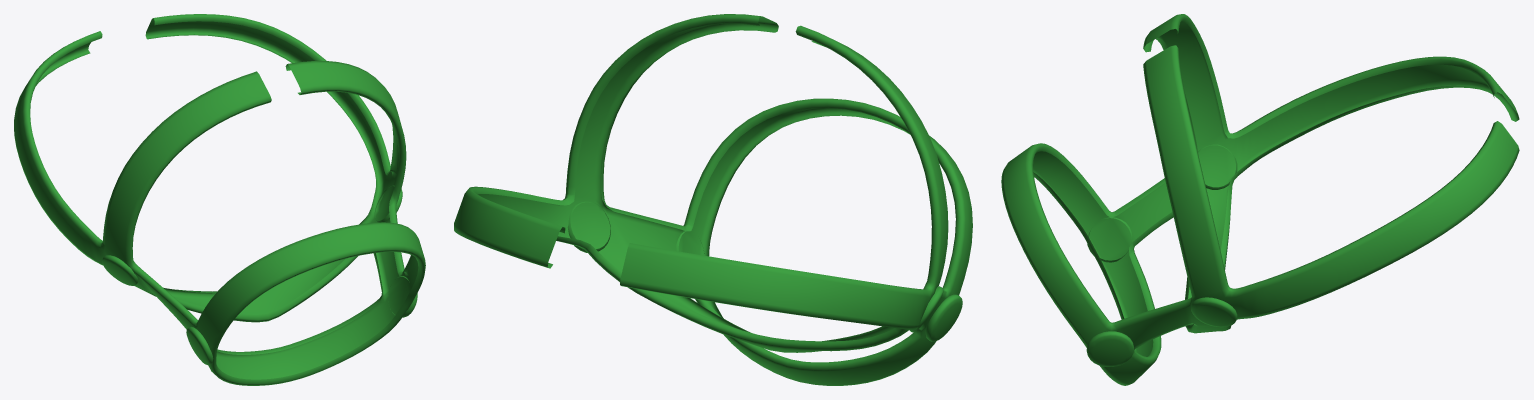
File: SM_horse_sbruya.fbx
3 renders of one model, left to right at view 1: azimuth 30°, elevation 25°; view 2: azimuth 150°, elevation 25°; view 3: azimuth 270°, elevation 25°, orthographic. The views are drawn at different scales.
Parts seen in each view (by area): view 1: SM_horse_sbruya; view 2: SM_horse_sbruya; view 3: SM_horse_sbruya.
Part boxes in pixels (box(x1,y1,x2,y2)): SM_horse_sbruya: box(14, 14, 425, 385); SM_horse_sbruya: box(454, 14, 972, 385); SM_horse_sbruya: box(1001, 14, 1519, 385).
Size of the model in its own units: 50.84 by 45.2 by 63.77.
